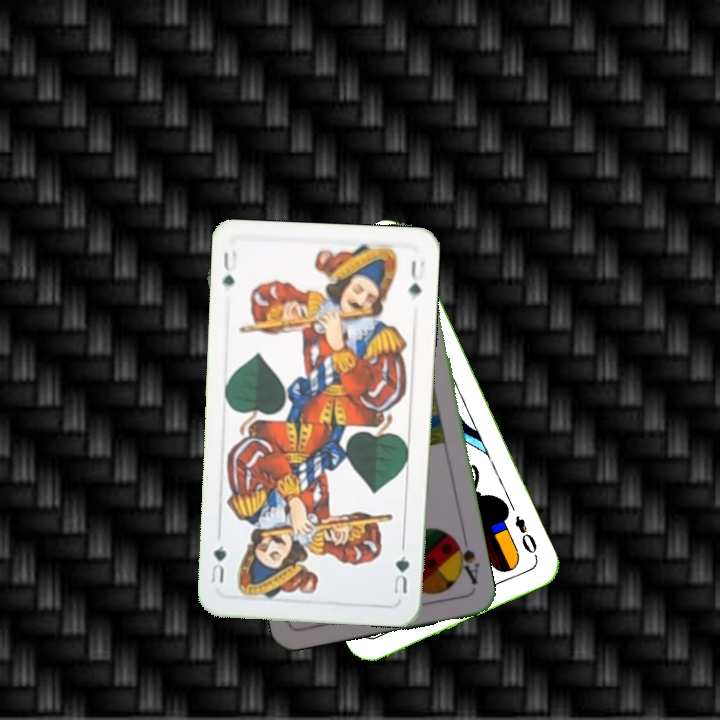EO: (510, 512, 541, 561)
GU: (390, 552, 412, 596), (218, 247, 240, 290)
SA: (449, 530, 482, 587)
